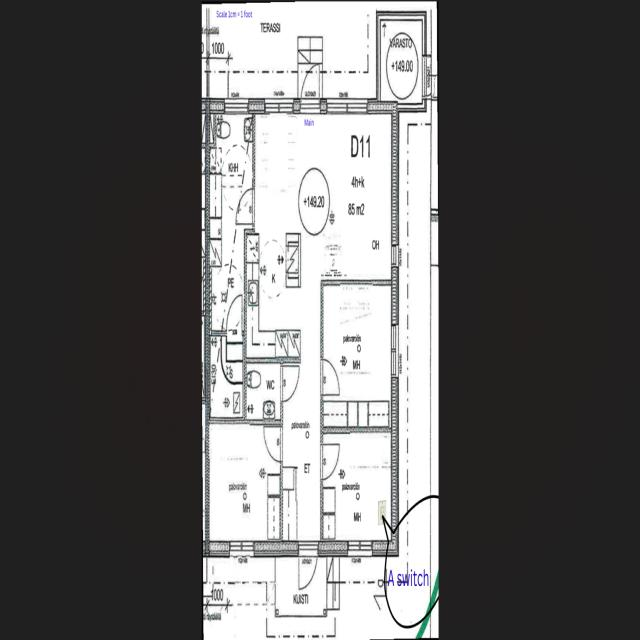main: (296, 57, 325, 132)
switch: (376, 495, 387, 527)
wall: (389, 373, 402, 559), (389, 99, 402, 248), (252, 535, 302, 563), (365, 98, 402, 120), (389, 264, 401, 330), (371, 536, 401, 561), (318, 539, 351, 561), (207, 538, 233, 560), (246, 94, 267, 117)
